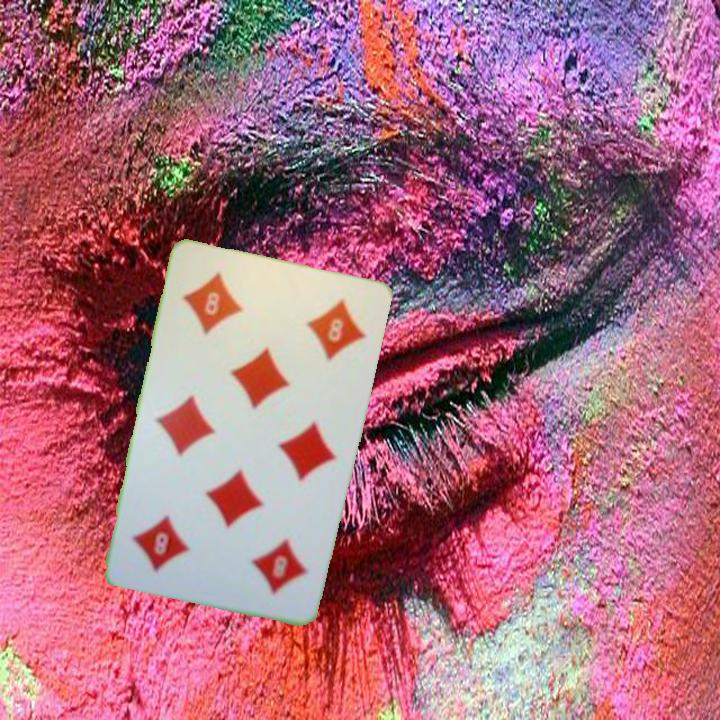d_8.png: (168, 255, 283, 360), (209, 506, 324, 610)
